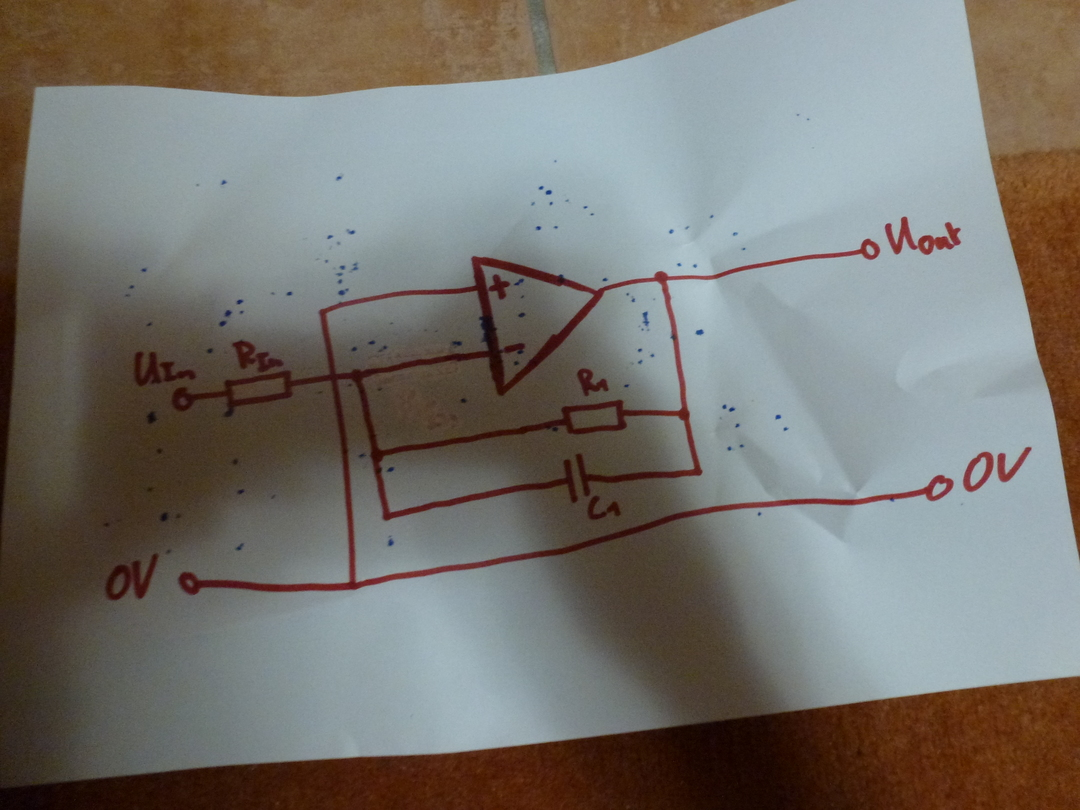capacitor.unpolarized: (557, 452, 595, 502)
crossover: (326, 369, 343, 385)
junction: (652, 268, 671, 286), (368, 445, 386, 464), (345, 576, 363, 593), (349, 367, 366, 384), (380, 506, 395, 525), (676, 406, 692, 423), (689, 463, 705, 480), (315, 305, 330, 318)
operational_amplifier: (470, 254, 604, 395)
resistor: (560, 397, 629, 437), (224, 371, 295, 406)
terminal: (924, 472, 955, 503), (176, 569, 206, 597), (170, 386, 197, 413), (859, 236, 882, 261)
text: (961, 445, 1033, 495), (883, 216, 965, 257), (103, 552, 160, 602), (132, 350, 198, 387), (231, 339, 284, 373), (575, 367, 609, 396), (586, 494, 622, 521)
